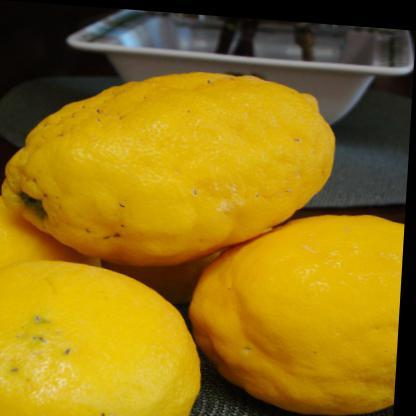lemon: (1, 71, 336, 268), (188, 214, 404, 416), (0, 260, 200, 416)
